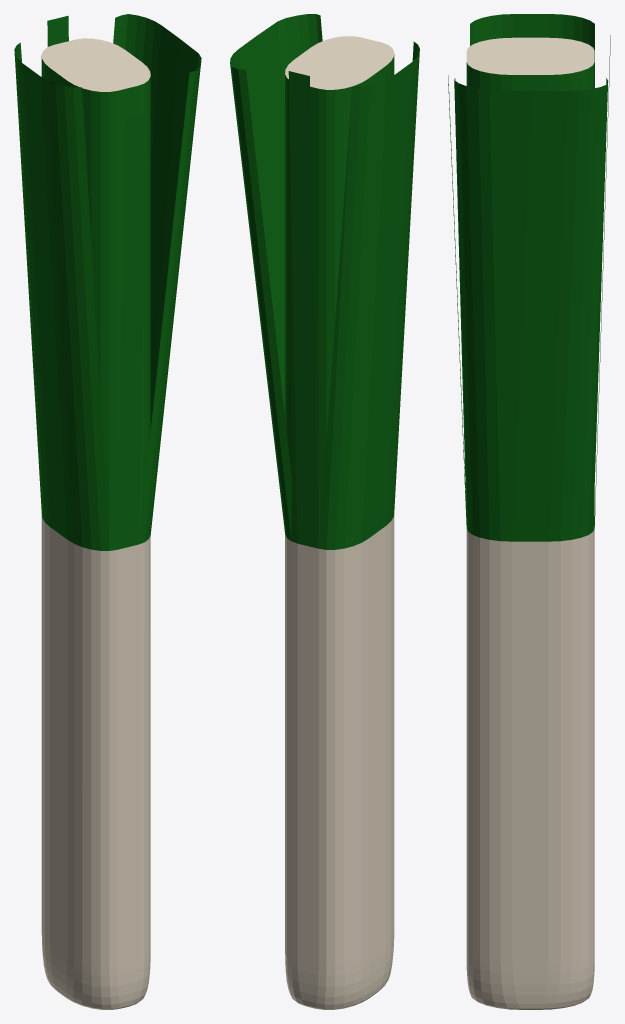
Rendered from Lauch.fbx.
3 renders of one model, left to right at view 1: azimuth 30°, elevation 25°; view 2: azimuth 150°, elevation 25°; view 3: azimuth 270°, elevation 25°, orthographic.
Visible parts, largest first — view 1: Cube; view 2: Cube; view 3: Cube.
Part boxes in pixels (left/top/right/bottom): Cube: left=14, top=14, right=201, bottom=1009; Cube: left=230, top=14, right=419, bottom=1009; Cube: left=448, top=14, right=610, bottom=1009.
Bounding box in the file's own units: 21.57 × 132 × 20.24.
